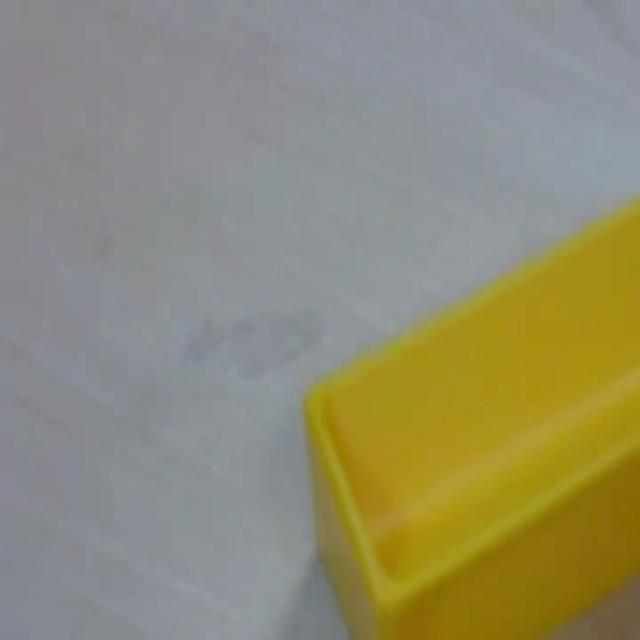yellow_block: (302, 195, 638, 636)
